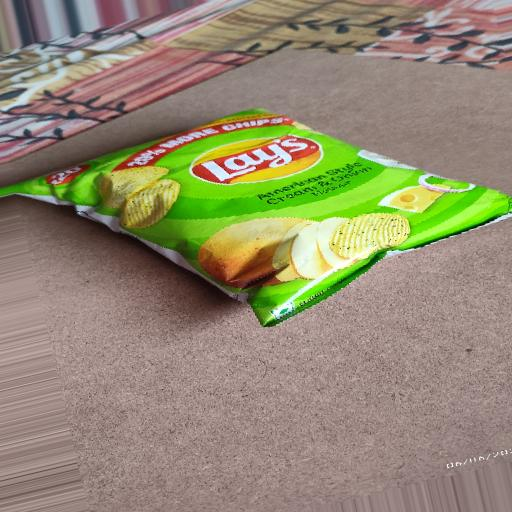Lays Green Small pack (American style cream and onion): (13, 83, 506, 374)
